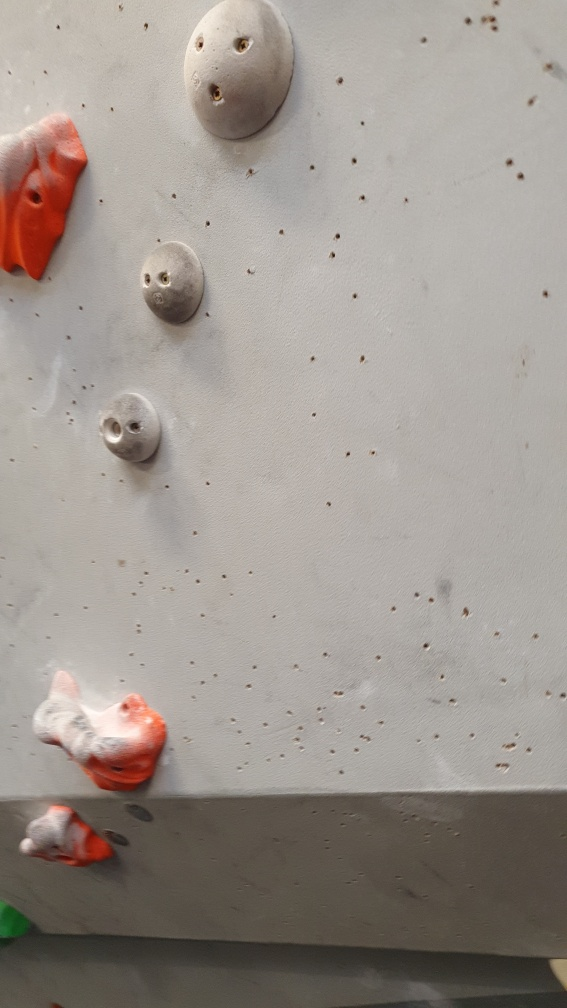Hand Start: (121, 799, 157, 828), (99, 822, 132, 850)
Jug: (30, 665, 174, 793), (1, 106, 89, 285)
Sloper: (184, 1, 298, 140), (139, 238, 209, 326), (98, 387, 161, 469)
